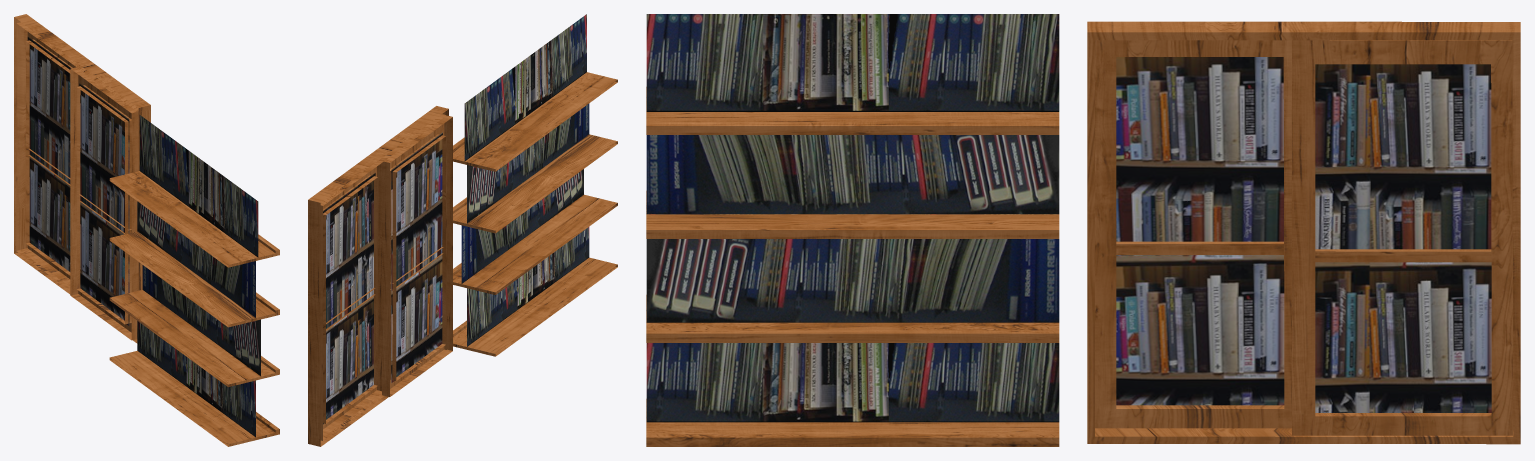
Rendered from Book_Shelfs.FBX.
3 renders of one model, left to right at view 1: azimuth 30°, elevation 25°; view 2: azimuth 150°, elevation 25°; view 3: azimuth 270°, elevation 25°, orthographic. The views are drawn at different scales.
Parts seen in each view (by area): view 1: Box096, Shelf_002; view 2: Shelf_002, Box096; view 3: Shelf_002, Box096.
Boxes of the visible parts, bbox=[...] form: Box096: bbox=[109, 115, 279, 446]; Shelf_002: bbox=[14, 14, 150, 343]; Shelf_002: bbox=[308, 106, 452, 446]; Box096: bbox=[453, 14, 617, 356]; Shelf_002: bbox=[1087, 21, 1520, 444]; Box096: bbox=[646, 14, 1059, 446].
Size of the model in its own units: 10.46 by 46.19 by 88.24.
